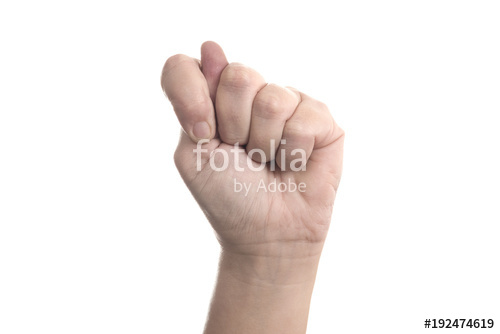finger: (156, 53, 217, 140), (273, 103, 340, 170), (243, 81, 297, 164), (216, 59, 256, 142)
